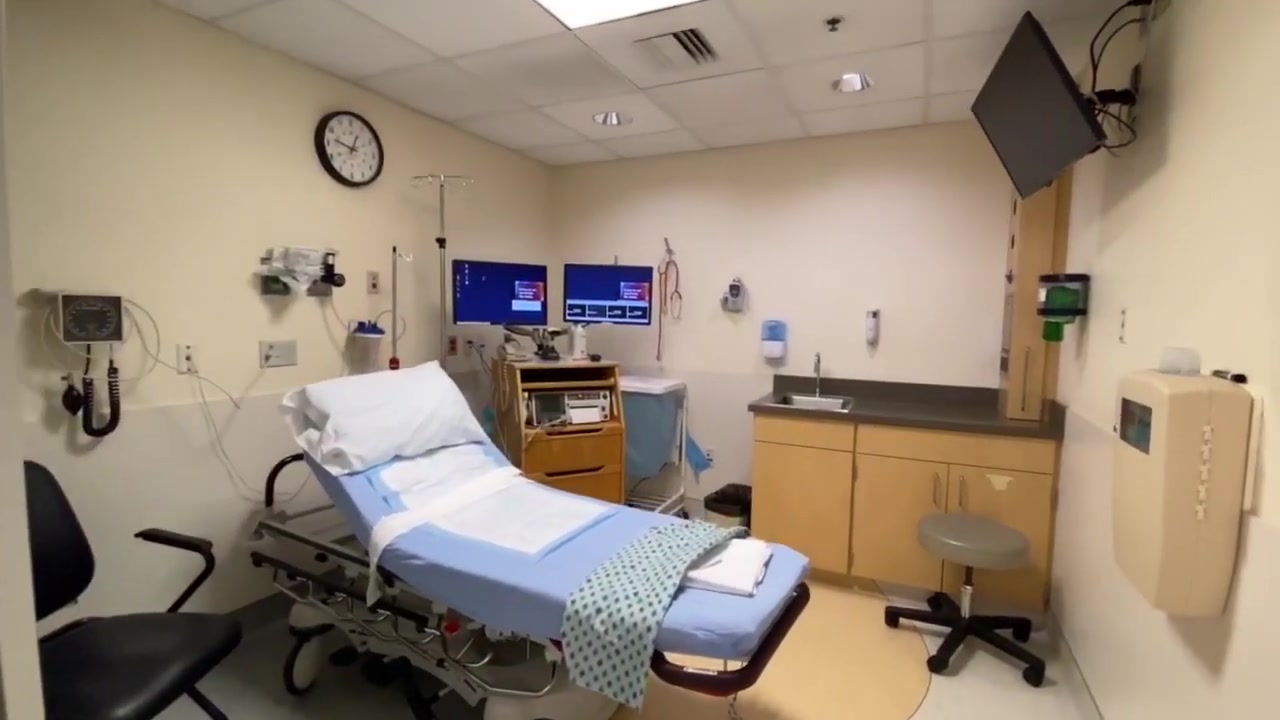TV: (970, 8, 1117, 204)
cabinet: (748, 391, 1059, 628)
chair: (23, 459, 241, 720), (887, 508, 1057, 688)
computer: (449, 258, 548, 322), (563, 260, 652, 327)
countertop: (749, 391, 1060, 441)
dispenser: (761, 317, 785, 366), (864, 309, 880, 346)
drawer: (492, 357, 628, 498)
exam_table: (251, 361, 809, 717)
faucet: (806, 351, 826, 395)
handle: (957, 476, 967, 508), (931, 473, 941, 503)
iv_pole: (410, 173, 474, 370), (387, 243, 410, 369)
medical_waste_container: (1108, 348, 1263, 620)
sink: (775, 386, 851, 414)
telephone: (495, 344, 532, 360)
waste_bin: (614, 377, 689, 515), (702, 482, 752, 540)
